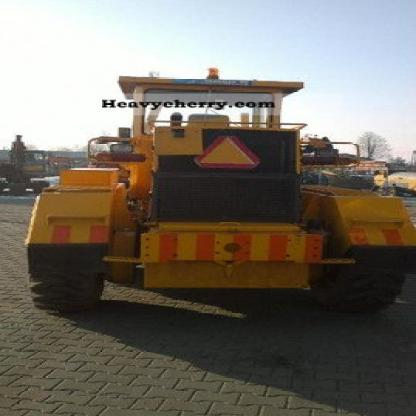bull_dozer/loader/grader: (16, 61, 414, 322)
